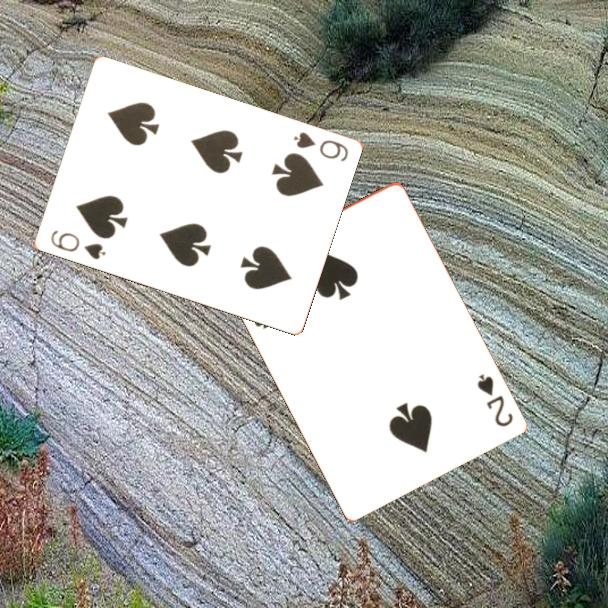s02: (473, 370, 515, 430)
s06: (289, 129, 351, 165), (47, 227, 108, 263)
